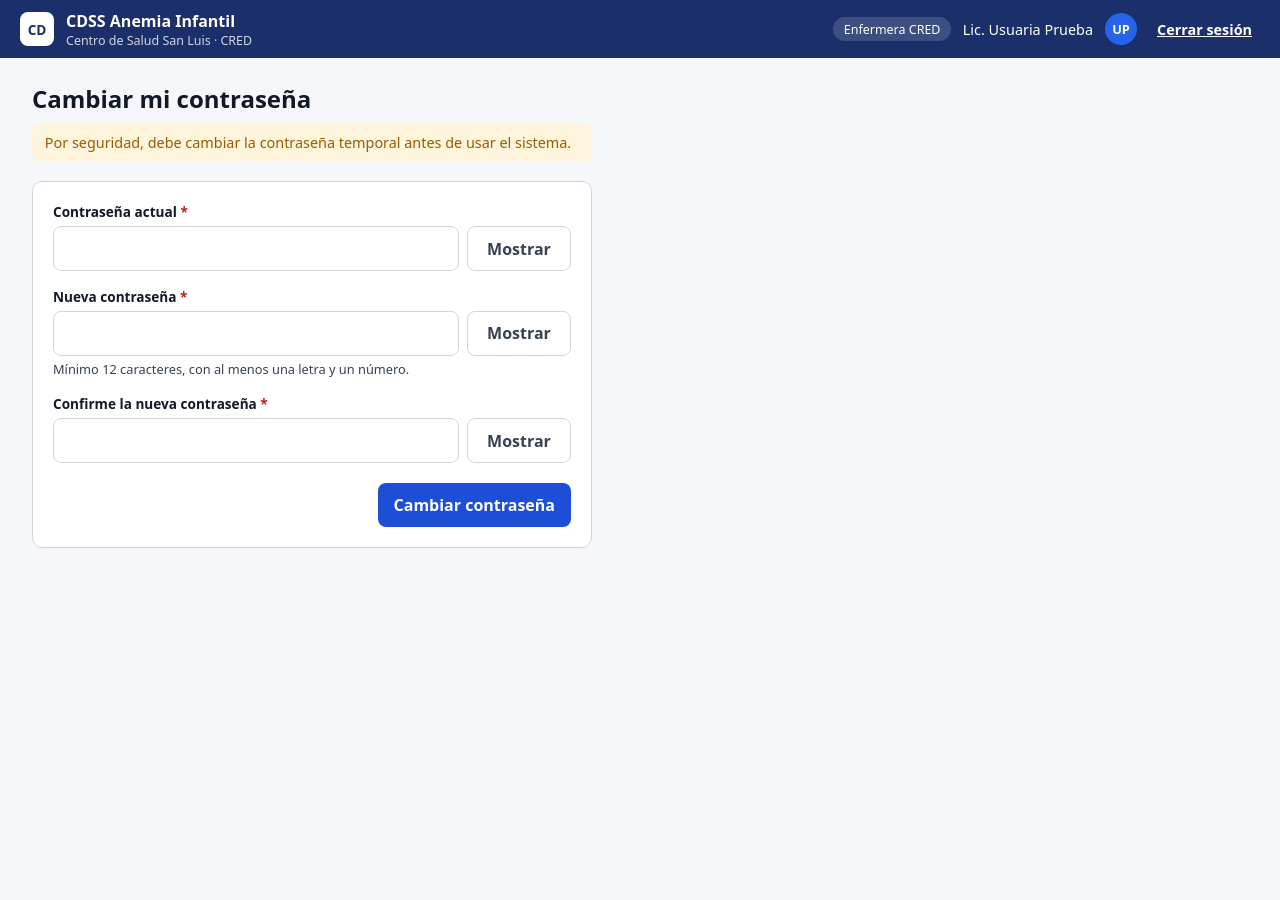
Scenario: modo obligatorio › un cambio correcto guarda el token nuevo, quita la marca y va al inicio con un aviso
The width and height of the screenshot is (1280, 900).
Type "TemporalAb12cd" into the password field labelled "Contraseña actual *" at point(256, 249), box x1=53 y1=226 x2=459 y2=271
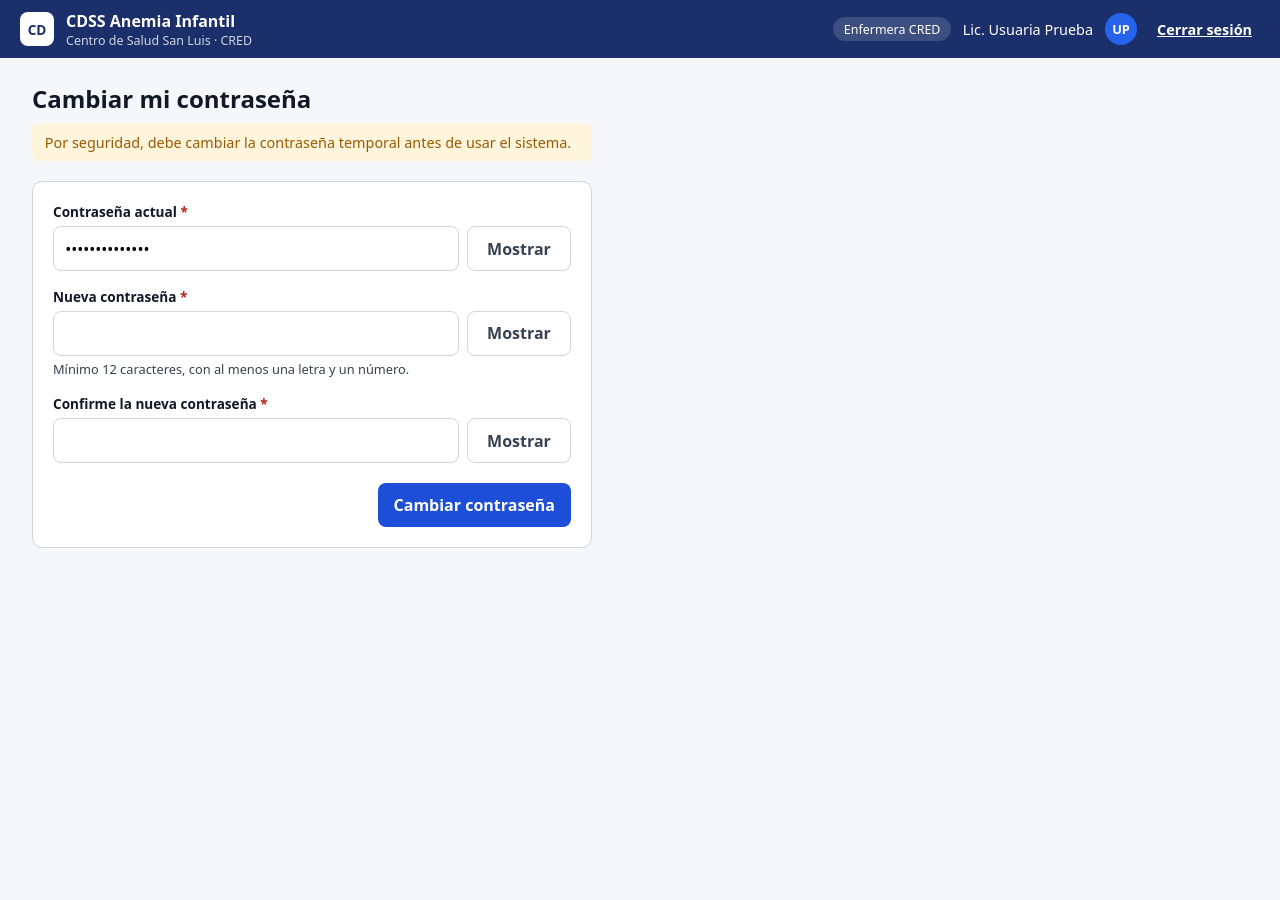
Type "ClaveNueva2026x" into the password field labelled "Nueva contraseña *" at point(256, 333), box x1=53 y1=311 x2=459 y2=356
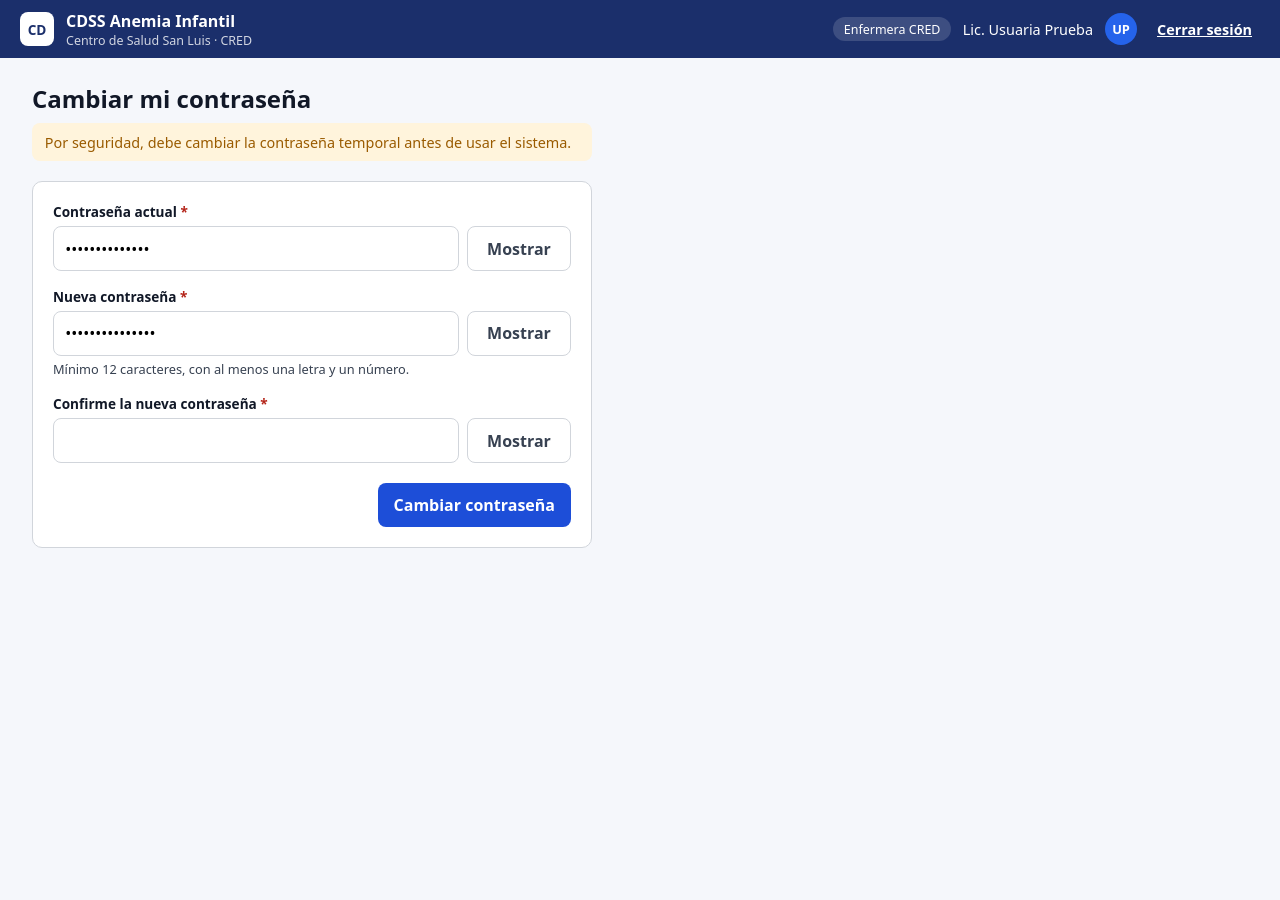
Type "ClaveNueva2026x" into the password field labelled "Confirme la nueva contraseña *" at point(256, 440), box x1=53 y1=418 x2=459 y2=463
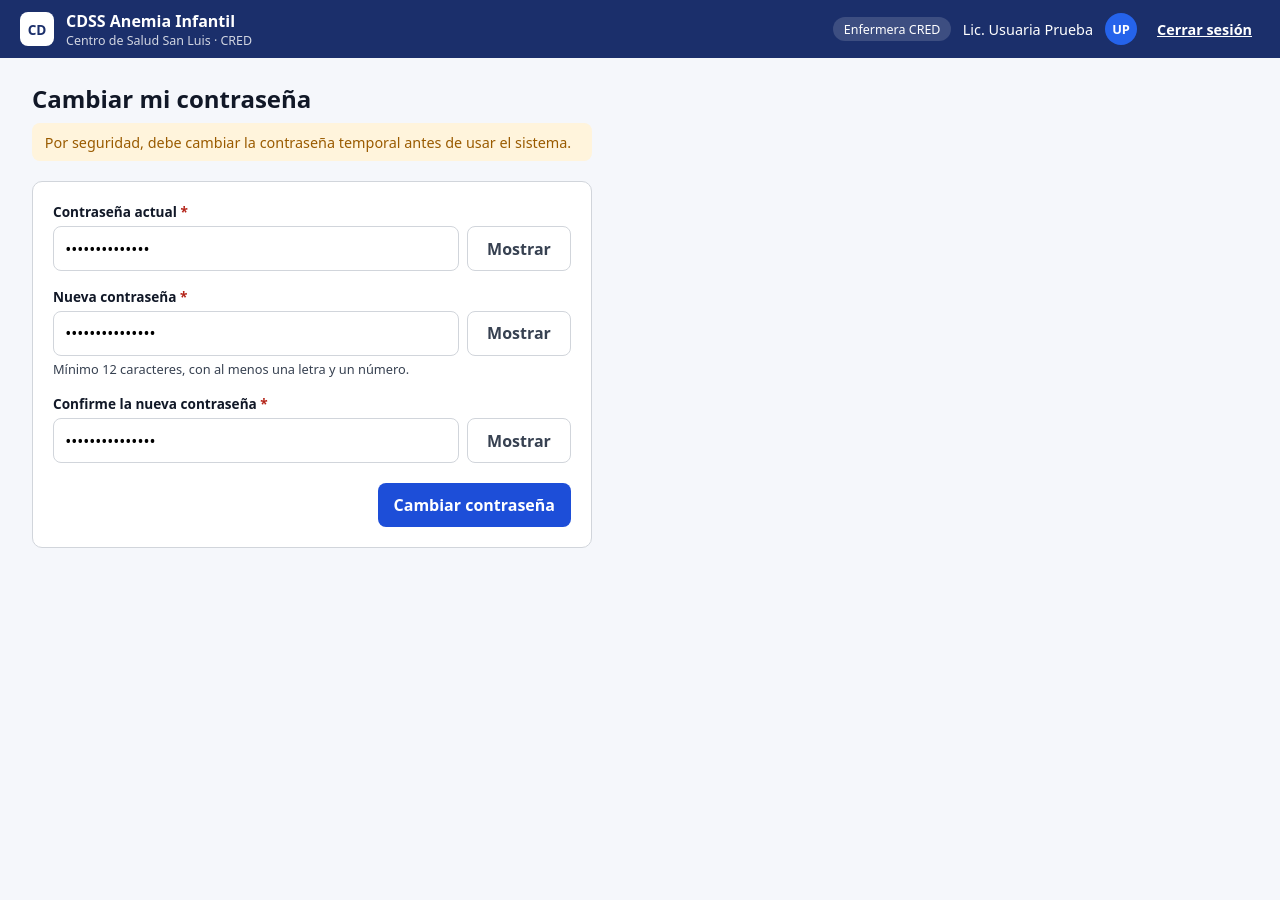
Click the button "Cambiar contraseña" at point(474, 505), box x1=378 y1=483 x2=571 y2=527
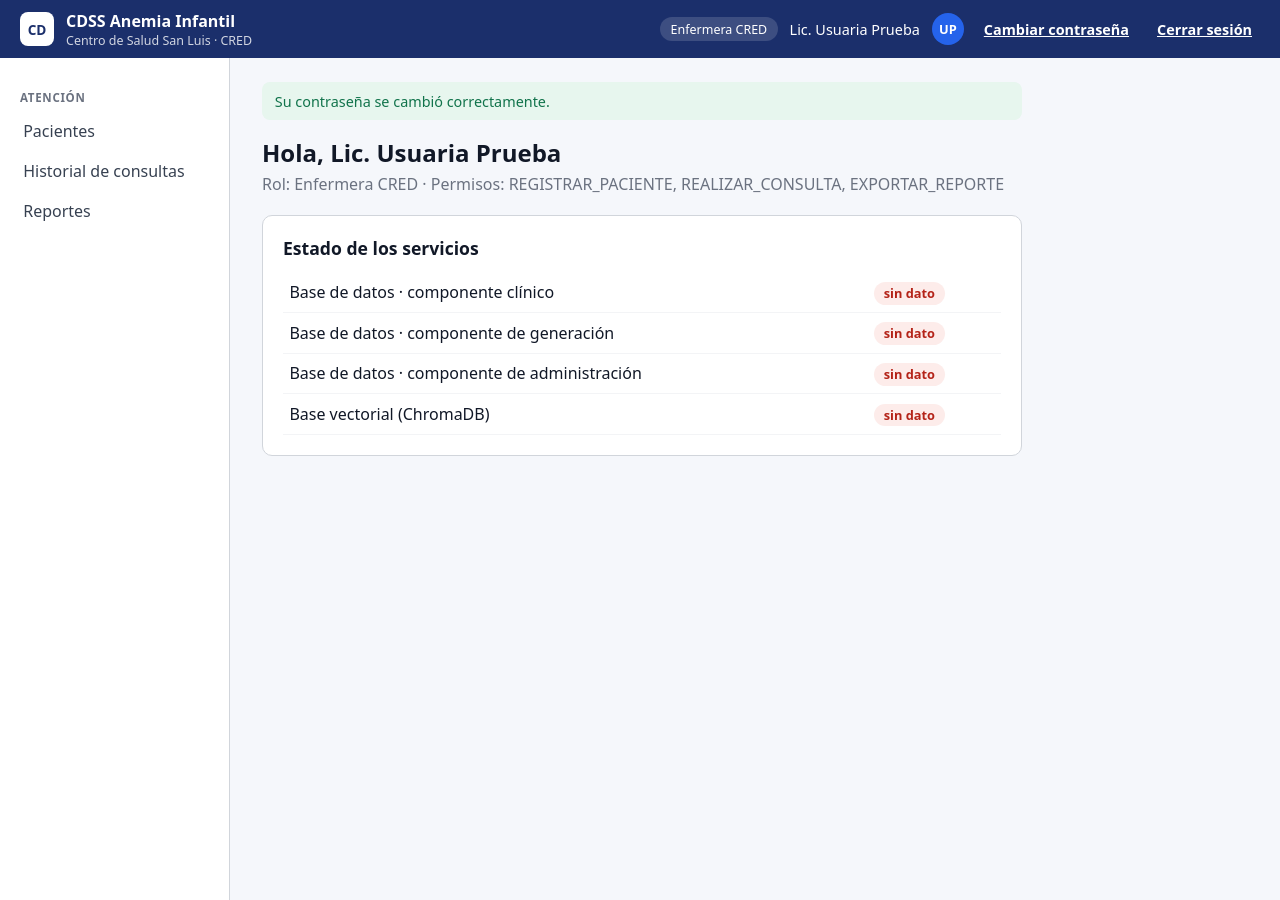
Expected: the text "Su contraseña se cambió correctamente." is shown, x1=262 y1=82 x2=1022 y2=120
Expected: the heading "Hola, Lic. Usuaria Prueba" is shown, x1=262 y1=136 x2=561 y2=169
Expected: the navigation bar named "Menú principal" is shown, x1=0 y1=58 x2=230 y2=899
